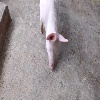heo: (37, 13, 69, 71)
